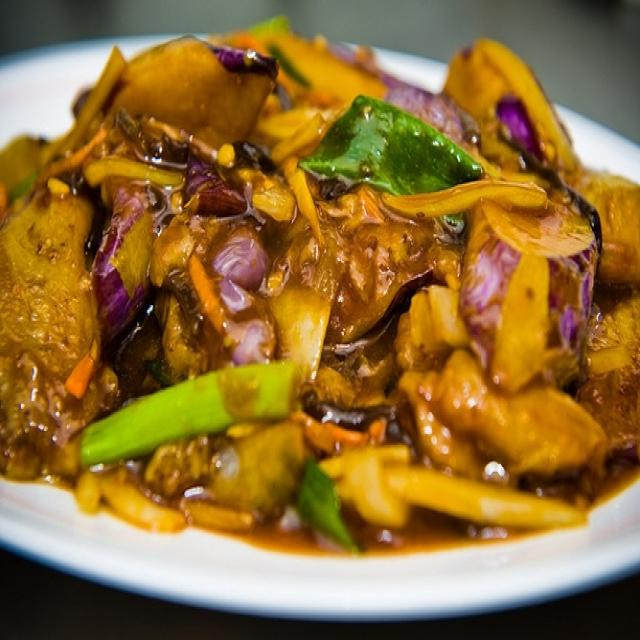鸡蛋料理: (22, 24, 608, 584)
